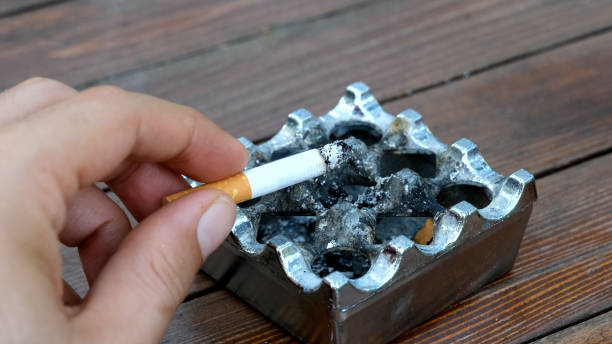cigarette: (164, 145, 332, 205)
